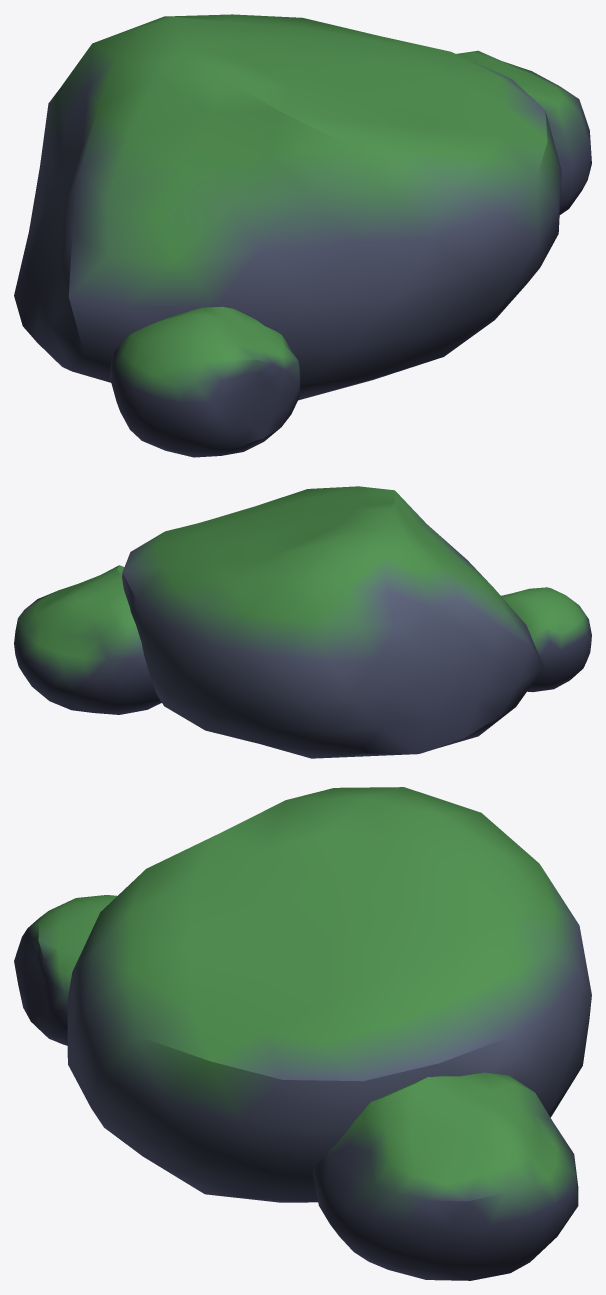
Rendered from rock.glb.
3 renders of one model, top to bottom at view 1: azimuth 30°, elevation 25°; view 2: azimuth 150°, elevation 25°; view 3: azimuth 270°, elevation 25°, orthographic. The views are drawn at different scales.
Parts seen in each view (by area): view 1: rock_body; view 2: rock_body; view 3: rock_body.
Boxes of the visible parts, bbox=[...] form: rock_body: bbox=[14, 14, 591, 457]; rock_body: bbox=[14, 486, 591, 758]; rock_body: bbox=[14, 787, 591, 1280].
Size of the model in its own units: 2.05 by 0.8663 by 1.61.
